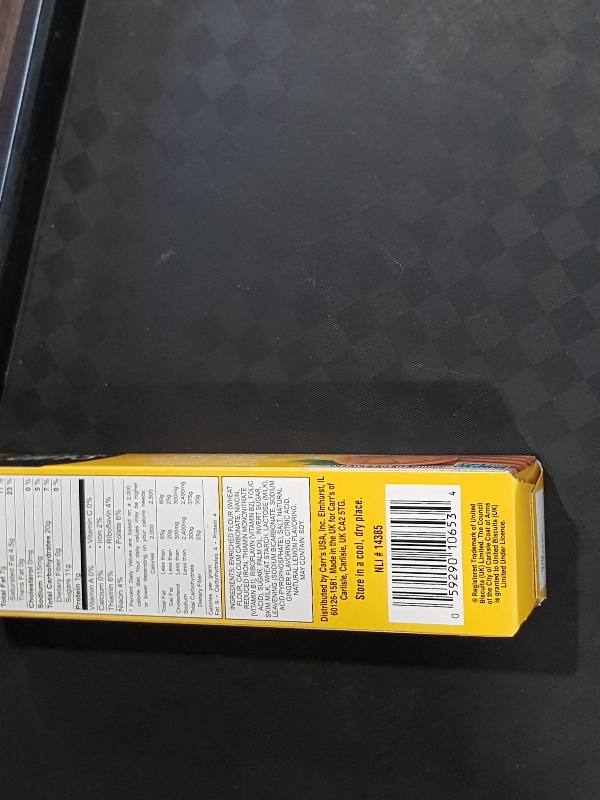Carr's Ginger Lemon Cremes: (1, 452, 548, 639)
